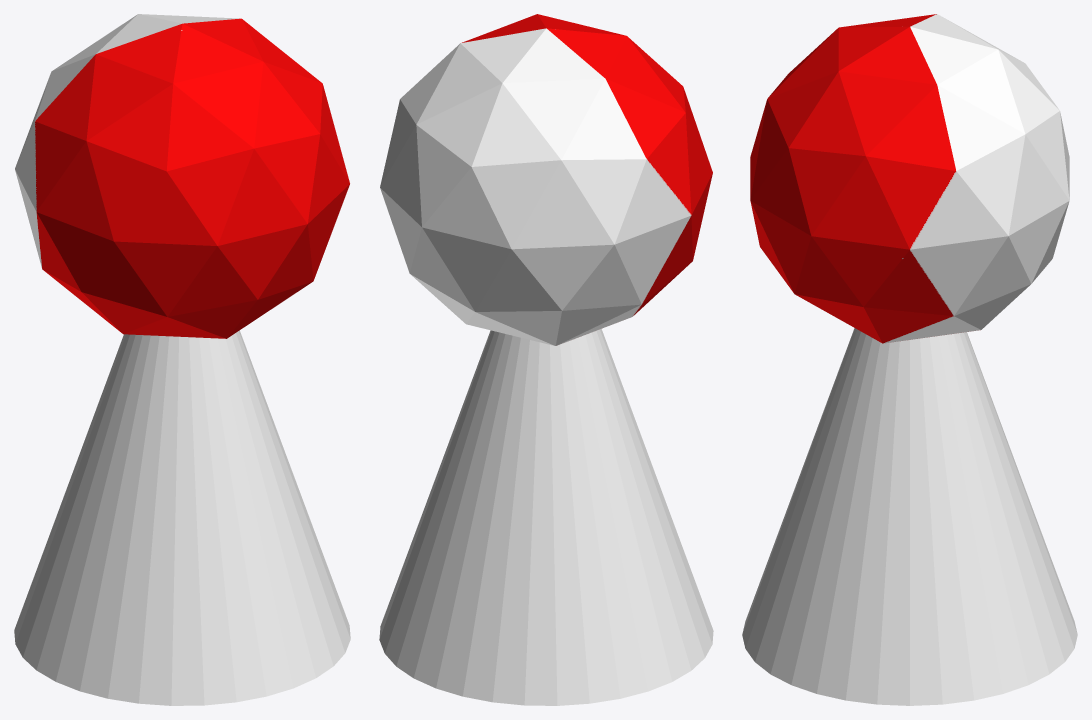
File: simple_zombie.glb
The picture shows the model from 3 angles, left to right: view 1: azimuth 30°, elevation 25°; view 2: azimuth 150°, elevation 25°; view 3: azimuth 270°, elevation 25°; orthographic projection.
Visible parts, largest first — view 1: body, head; view 2: body, head; view 3: body, head.
Part boxes in pixels (left/top/right/bottom): body: left=14, top=330, right=350, bottom=705; head: left=15, top=14, right=349, bottom=338; body: left=379, top=329, right=713, bottom=705; head: left=380, top=14, right=712, bottom=345; body: left=742, top=328, right=1077, bottom=705; head: left=750, top=14, right=1069, bottom=343.
Bounding box in the file's own units: 1 × 2 × 1.
Materials: 2 (1 with a texture image).
